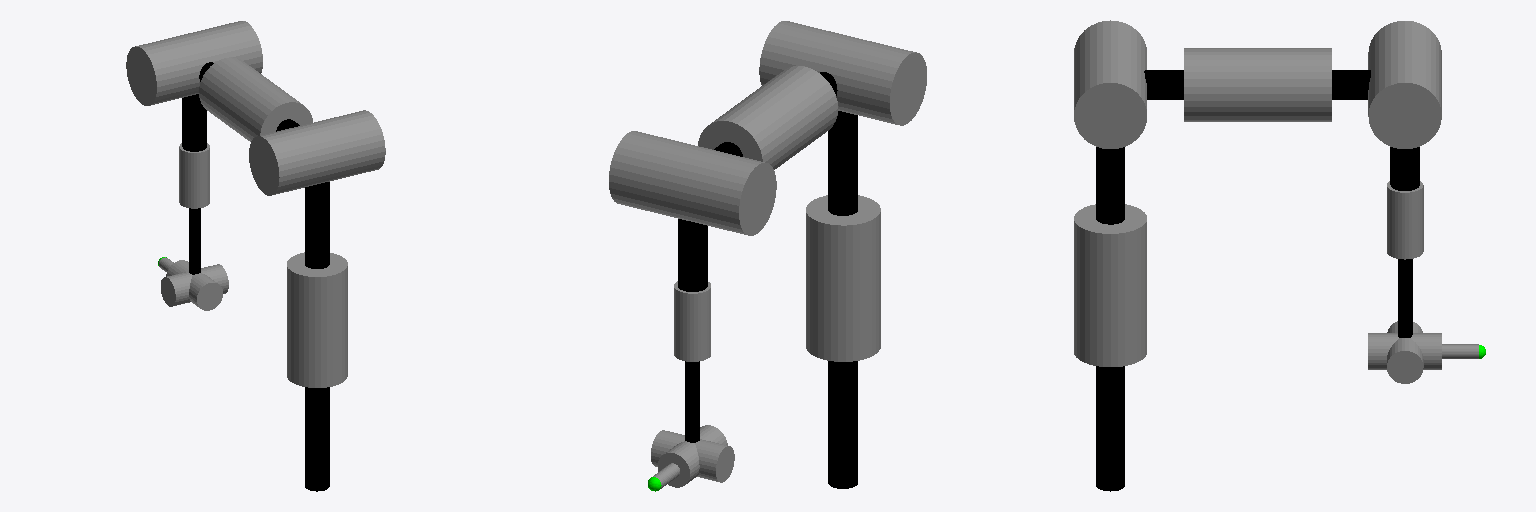
URDF robot description (SevenDOF):
<?xml version="1.0"?>

<robot name="SevenDOF">
  
  <!-- *************************************************** -->
  <!-- ******************** Kinematics ******************* -->
  <!-- *************************************************** -->

  <link name="world"/>

  <joint name="theta1" type="continuous">
    <parent link="world"/>
    <child  link="link1"/>
    <origin xyz="0 0 0.6" rpy="0 0 0"/>
    <axis   xyz="0 0 1"/>
    <dynamics damping="5.0"/>
  </joint>

  <link name="link1"/>

  <joint name="theta2" type="continuous">
    <parent link="link1"/>
    <child  link="link2"/>
    <origin xyz="0 0 0" rpy="0 0 0"/>
    <axis   xyz="1 0 0"/>
    <dynamics damping="5.0"/>
  </joint>

  <link name="link2"/>

  <joint name="attach-shoulder" type="fixed">
    <parent link="link2"/>
    <child  link="shoulder"/>
  </joint>

  <link name="shoulder"/>

  <joint name="theta3" type="continuous">
    <parent link="link2"/>
    <child  link="link3"/>
    <origin xyz="0 0.4 0" rpy="0 0 0"/>
    <axis   xyz="0 1 0 "/>
    <dynamics damping="0.5"/>
  </joint>

  <link name="link3"/>

  <joint name="theta4" type="continuous">
    <parent link="link3"/>
    <child  link="link4"/>
    <origin xyz="0 0 0" rpy="-1.5708 0 0"/>
    <axis   xyz="1 0 0 "/>
    <dynamics damping="1.0"/>
  </joint>

  <link name="link4"/>

  <joint name="attach-elbow" type="fixed">
    <parent link="link4"/>
    <child  link="elbow"/>
  </joint>

  <link name="elbow"/>

  <joint name="theta5" type="continuous">
    <parent link="link4"/>
    <child  link="link5"/>
    <origin xyz="0 0.4 0" rpy="0 0 0"/>
    <axis   xyz="0 1 0"/>
    <dynamics damping="0.2"/>
  </joint>

  <link name="link5"/>

  <joint name="theta6" type="continuous">
    <parent link="link5"/>
    <child  link="link6"/>
    <origin xyz="0 0 0" rpy="0 0 0"/>
    <axis   xyz="0 0 1"/>
    <dynamics damping="0.2"/>
  </joint>

  <link name="link6"/>

  <joint name="theta7" type="continuous">
    <parent link="link6"/>
    <child  link="link7"/>
    <origin xyz="0 0 0" rpy="0 0 0"/>
    <axis   xyz="1 0 0"/>
    <dynamics damping="0.2"/>
  </joint>

  <link name="link7"/>

  <joint name="final" type="fixed">
    <parent link="link7"/>
    <child  link="tip"/>
    <origin xyz="0 0 0.1" rpy="1.5708 0 0"/>
  </joint>

  <link name="tip"/>


  <!-- *************************************************** -->
  <!-- ******************* RVIZ Colors ******************* -->
  <!-- *************************************************** -->

  <material name="white">    <color rgba="1.00 1.00 1.00 1"/>  </material>
  <material name="gray">     <color rgba="0.60 0.60 0.60 1"/>  </material>
  <material name="table">    <color rgba="0.85 0.77 0.77 1"/>  </material>
  <material name="black">    <color rgba="0.00 0.00 0.00 1"/>  </material>

  <material name="red">      <color rgba="1.00 0.00 0.00 1"/>  </material>
  <material name="green">    <color rgba="0.00 1.00 0.00 1"/>  </material>
  <material name="blue">     <color rgba="0.00 0.00 1.00 1"/>  </material>

  <material name="cyan">     <color rgba="0.00 1.00 1.00 1"/>  </material>
  <material name="magenta">  <color rgba="1.00 0.00 1.00 1"/>  </material>
  <material name="yellow">   <color rgba="1.00 1.00 0.00 1"/>  </material>

  <material name="orange">   <color rgba="1.00 0.65 0.00 1"/>  </material>


  <!-- *************************************************** -->
  <!-- ****** Building Blocks (Visual AND Inertial) ****** -->
  <!-- *************************************************** -->

  <!-- *** World-Fixed: Mount 1, Motor 1 *** -->

  <joint name="attach-mount1" type="fixed">
    <parent link="world"/>
    <child  link="mount1"/>
  </joint>
  <link name="mount1">
    <visual>
      <origin xyz="0 0 0.1" rpy="0 0 0"/>
      <geometry>
	<cylinder length="0.2" radius="0.02"/>
      </geometry>
      <material name="black"/>
    </visual>
    <collision>
      <origin xyz="0 0 0.1" rpy="0 0 0"/>
      <geometry>
	<cylinder length="0.2" radius="0.02"/>
      </geometry>
    </collision>
    <inertial>
      <origin xyz="0 0 0.1" rpy="0 0 0"/>
      <mass value="0.2"/>
      <inertia
        ixx="0.000687" ixy="0.0" ixz="0.0"
        iyy="0.000687" iyz="0.0"
        izz="0.000040"/>
    </inertial>
  </link>

  <joint name="attach-motor1" type="fixed">
    <parent link="world"/>
    <child  link="motor1"/>
  </joint>
  <link name="motor1">
    <visual>
      <origin xyz="0 0 0.3" rpy="0 0 0"/>
      <geometry>
	<cylinder length="0.2" radius="0.05"/>
      </geometry>
      <material name="gray"/>
    </visual>
    <collision>
      <origin xyz="0 0 0.3" rpy="0 0 0"/>
      <geometry>
	<cylinder length="0.2" radius="0.05"/>
      </geometry>
    </collision>
    <inertial>
      <origin xyz="0 0 0.3" rpy="0 0 0"/>
      <mass value="2.0"/>
      <inertia
        ixx="0.007917" ixy="0.0" ixz="0.0"
        iyy="0.007917" iyz="0.0"
        izz="0.002500"/>
    </inertial>
  </link>

  <!-- *** Motor 1 Output: Mount 2, Motor 2 *** -->

  <joint name="attach-mount2" type="fixed">
    <parent link="link1"/>
    <child  link="mount2"/>
  </joint>
  <link name="mount2">
    <visual>
      <origin xyz="0 0 -0.1" rpy="0 0 0"/>
      <geometry>
	<cylinder length="0.2" radius="0.02"/>
      </geometry>
      <material name="black"/>
    </visual>
    <collision>
      <origin xyz="0 0 -0.1" rpy="0 0 0"/>
      <geometry>
	<cylinder length="0.2" radius="0.02"/>
      </geometry>
    </collision>
    <inertial>
      <origin xyz="0 0 -0.1" rpy="0 0 0"/>
      <mass value="0.2"/>
      <inertia
        ixx="0.000687" ixy="0.0" ixz="0.0"
        iyy="0.000687" iyz="0.0"
        izz="1.000040"/>
    </inertial>
  </link>

  <joint name="attach-motor2" type="fixed">
    <parent link="link1"/>
    <child  link="motor2"/>
  </joint>
  <link name="motor2">
    <visual>
      <origin xyz="0 0 0" rpy="0 1.5708 0"/>
      <geometry>
	<cylinder length="0.2" radius="0.05"/>
      </geometry>
      <material name="gray"/>
    </visual>
    <collision>
      <origin xyz="0 0 0" rpy="0 1.5708 0"/>
      <geometry>
	<cylinder length="0.2" radius="0.05"/>
      </geometry>
    </collision>
    <inertial>
      <origin xyz="0 0 0" rpy="0 1.5708 0"/>
      <mass value="2.0"/>
      <inertia
        ixx="0.007917" ixy="0.0" ixz="0.0"
        iyy="0.007917" iyz="0.0"
        izz="0.002500"/>
    </inertial>
  </link>

  <!-- *** Motor 2 Output: Mount 3, Motor 3 *** -->

  <joint name="attach-mount3" type="fixed">
    <parent link="link2"/>
    <child  link="mount3"/>
  </joint>
  <link name="mount3">
    <visual>
      <origin xyz="0 0.1 0" rpy="1.5708 0 0"/>
      <geometry>
	<cylinder length="0.2" radius="0.02"/>
      </geometry>
      <material name="black"/>
    </visual>
    <collision>
      <origin xyz="0 0.1 0" rpy="1.5708 0 0"/>
      <geometry>
	<cylinder length="0.2" radius="0.02"/>
      </geometry>
    </collision>
    <inertial>
      <origin xyz="0 0.1 0" rpy="1.5708 0 0"/>
      <mass value="0.2"/>
      <inertia
        ixx="1.000687" ixy="0.0" ixz="0.0"
        iyy="0.000687" iyz="0.0"
        izz="0.000040"/>
    </inertial>
  </link>

  <joint name="attach-motor3" type="fixed">
    <parent link="link2"/>
    <child  link="motor3"/>
  </joint>
  <link name="motor3">
    <visual>
      <origin xyz="0 0.2 0" rpy="1.5708 0 0"/>
      <geometry>
	<cylinder length="0.2" radius="0.05"/>
      </geometry>
      <material name="gray"/>
    </visual>
    <collision>
      <origin xyz="0 0.2 0" rpy="1.5708 0 0"/>
      <geometry>
	<cylinder length="0.2" radius="0.05"/>
      </geometry>
    </collision>
    <inertial>
      <origin xyz="0 0.2 0" rpy="1.5708 0 0"/>
      <mass value="2.0"/>
      <inertia
        ixx="0.007917" ixy="0.0" ixz="0.0"
        iyy="0.007917" iyz="0.0"
        izz="0.002500"/>
    </inertial>
  </link>

  <!-- *** Motor 3 Output: Mount 4, Motor 4 *** -->

  <joint name="attach-mount4" type="fixed">
    <parent link="link3"/>
    <child  link="mount4"/>
  </joint>
  <link name="mount4">
    <visual>
      <origin xyz="0 -0.1 0" rpy="1.5708 0 0"/>
      <geometry>
	<cylinder length="0.2" radius="0.02"/>
      </geometry>
      <material name="black"/>
    </visual>
    <collision>
      <origin xyz="0 -0.1 0" rpy="1.5708 0 0"/>
      <geometry>
	<cylinder length="0.2" radius="0.02"/>
      </geometry>
    </collision>
    <inertial>
      <origin xyz="0 -0.1 0" rpy="1.5708 0 0"/>
      <mass value="0.2"/>
      <inertia
        ixx="0.000687" ixy="0.0" ixz="0.0"
        iyy="0.000687" iyz="0.0"
        izz="1.000040"/>
    </inertial>
  </link>

  <joint name="attach-motor4" type="fixed">
    <parent link="link3"/>
    <child  link="motor4"/>
  </joint>
  <link name="motor4">
    <visual>
      <origin xyz="0 0 0" rpy="0 1.5708 0"/>
      <geometry>
	<cylinder length="0.2" radius="0.05"/>
      </geometry>
      <material name="gray"/>
    </visual>
    <collision>
      <origin xyz="0 0 0" rpy="0 1.5708 0"/>
      <geometry>
	<cylinder length="0.2" radius="0.05"/>
      </geometry>
    </collision>
    <inertial>
      <origin xyz="0 0 0" rpy="0 1.5708 0"/>
      <mass value="2.0"/>
      <inertia
        ixx="0.007917" ixy="0.0" ixz="0.0"
        iyy="0.007917" iyz="0.0"
        izz="0.002500"/>
    </inertial>
  </link>

  <!-- *** Motor 4 Output: Mount 5, Motor 5 *** -->

  <joint name="attach-mount5" type="fixed">
    <parent link="link4"/>
    <child  link="mount5"/>
  </joint>
  <link name="mount5">
    <visual>
      <origin xyz="0 0.1 0" rpy="1.5708 0 0"/>
      <geometry>
	<cylinder length="0.2" radius="0.02"/>
      </geometry>
      <material name="black"/>
    </visual>
    <collision>
      <origin xyz="0 0.1 0" rpy="1.5708 0 0"/>
      <geometry>
	<cylinder length="0.2" radius="0.02"/>
      </geometry>
    </collision>
    <inertial>
      <origin xyz="0 0.1 0" rpy="1.5708 0 0"/>
      <mass value="0.2"/>
      <inertia
        ixx="0.500687" ixy="0.0" ixz="0.0"
        iyy="0.000687" iyz="0.0"
        izz="0.000040"/>
    </inertial>
  </link>

  <joint name="attach-motor5" type="fixed">
    <parent link="link4"/>
    <child  link="motor5"/>
  </joint>
  <link name="motor5">
    <visual>
      <origin xyz="0 0.2 0" rpy="1.5708 0 0"/>
      <geometry>
	<cylinder length="0.1" radius="0.025"/>
      </geometry>
      <material name="gray"/>
    </visual>
    <collision>
      <origin xyz="0 0.2 0" rpy="1.5708 0 0"/>
      <geometry>
	<cylinder length="0.1" radius="0.025"/>
      </geometry>
    </collision>
    <inertial>
      <origin xyz="0 0.2 0" rpy="1.5708 0 0"/>
      <mass value="1.0"/>
      <inertia
        ixx="0.000990" ixy="0.0" ixz="0.0"
        iyy="0.000990" iyz="0.0"
        izz="0.000313"/>
    </inertial>
  </link>

  <!-- *** Motor 5 Output: Mount 6, Motor 6 *** -->

  <joint name="attach-mount6" type="fixed">
    <parent link="link5"/>
    <child  link="mount6"/>
  </joint>
  <link name="mount6">
    <visual>
      <origin xyz="0 -0.1 0" rpy="1.5708 0 0"/>
      <geometry>
	<cylinder length="0.2" radius="0.01"/>
      </geometry>
      <material name="black"/>
    </visual>
    <collision>
      <origin xyz="0 -0.1 0" rpy="1.5708 0 0"/>
      <geometry>
	<cylinder length="0.2" radius="0.01"/>
      </geometry>
    </collision>
    <inertial>
      <origin xyz="0 -0.1 0" rpy="1.5708 0 0"/>
      <mass value="0.1"/>
      <inertia
        ixx="0.000336" ixy="0.0" ixz="0.0"
        iyy="0.000336" iyz="0.0"
        izz="0.500005"/>
    </inertial>
  </link>

  <joint name="attach-motor6" type="fixed">
    <parent link="link5"/>
    <child  link="motor6"/>
  </joint>
  <link name="motor6">
    <visual>
      <origin xyz="0 0 0" rpy="0 0 0"/>
      <geometry>
	<cylinder length="0.1" radius="0.025"/>
      </geometry>
      <material name="gray"/>
    </visual>
    <collision>
      <origin xyz="0 0 0" rpy="0 0 0"/>
      <geometry>
	<cylinder length="0.1" radius="0.025"/>
      </geometry>
    </collision>
    <inertial>
      <origin xyz="0 0 0" rpy="0 0 0"/>
      <mass value="1.0"/>
      <inertia
        ixx="0.000990" ixy="0.0" ixz="0.0"
        iyy="0.000990" iyz="0.0"
        izz="0.000313"/>
    </inertial>
  </link>

  <!-- *** Motor 6 Output: Motor 7 *** -->

  <joint name="attach-motor7" type="fixed">
    <parent link="link6"/>
    <child  link="motor7"/>
  </joint>
  <link name="motor7">
    <visual>
      <origin xyz="0 0 0" rpy="0 1.5708 0"/>
      <geometry>
	<cylinder length="0.1" radius="0.025"/>
      </geometry>
      <material name="gray"/>
    </visual>
    <collision>
      <origin xyz="0 0 0" rpy="0 1.5708 0"/>
      <geometry>
	<cylinder length="0.1" radius="0.025"/>
      </geometry>
    </collision>
    <inertial>
      <origin xyz="0 0 0" rpy="0 1.5708 0"/>
      <mass value="1.0"/>
      <inertia
        ixx="0.500990" ixy="0.0" ixz="0.0"
        iyy="0.000990" iyz="0.0"
        izz="0.000313"/>
    </inertial>
  </link>

  <!-- *** Drawing Sphere *** -->

  <joint name="attach-sphere" type="fixed">
    <parent link="tip"/>
    <child  link="sphere"/>
  </joint>
  <link name="sphere">
    <visual>
      <origin xyz="0 0 0" rpy="0 0 0"/>
      <geometry>
	      <sphere radius="0.01"/>
      </geometry>
      <material name="green"/>
    </visual>
    <collision>
      <origin xyz="0 0 0" rpy="0 0 0"/>
      <geometry>
	      <sphere radius="0.01"/>
      </geometry>
      <material name="green"/>
    </collision>
    <inertial>
      <origin xyz="0 0 0" rpy="0 0 0"/>
      <mass value="1.0"/>
      <inertia
        ixx="0.01" ixy="0.0" ixz="0.0"
        iyy="0.01" iyz="0.0"
        izz="0.01"/>
    </inertial>
  </link>


  <joint name="attach-cylinder" type="fixed">
    <parent link="tip"/>
    <child  link="cylinder"/>
  </joint>
  <link name="cylinder">
    <visual>
      <origin xyz="0 -0.05 0" rpy="1.5708 0 0"/>
      <geometry>
	      <cylinder length="0.1" radius="0.01"/>
      </geometry>
      <material name="gray"/>
    </visual>
    <collision>
      <origin xyz="0 -0.05 0" rpy="1.5708 0 0"/>
      <geometry>
	      <cylinder length="0.1" radius="0.01"/>
      </geometry>
    </collision>
    <inertial>
      <origin xyz="0 0 0" rpy="0 1.5708 0"/>
      <mass value="1.0"/>
      <inertia
        ixx="0.500990" ixy="0.0" ixz="0.0"
        iyy="0.000990" iyz="0.0"
        izz="0.000313"/>
    </inertial>
  </link>


  <!-- *************************************************** -->
  <!-- ******************* Gazebo Colors ***************** -->
  <!-- *************************************************** -->

  <gazebo reference="motor1"> <material>Gazebo/Gray</material>  </gazebo>
  <gazebo reference="motor2"> <material>Gazebo/Gray</material>  </gazebo>
  <gazebo reference="motor3"> <material>Gazebo/Gray</material>  </gazebo>
  <gazebo reference="motor4"> <material>Gazebo/Gray</material>  </gazebo>
  <gazebo reference="motor5"> <material>Gazebo/Gray</material>  </gazebo>
  <gazebo reference="motor6"> <material>Gazebo/Gray</material>  </gazebo>
  <gazebo reference="motor7"> <material>Gazebo/Gray</material>  </gazebo>

  <gazebo reference="mount1">   <material>Gazebo/Black</material> </gazebo>
  <gazebo reference="mount2">   <material>Gazebo/Black</material> </gazebo>
  <gazebo reference="mount3">   <material>Gazebo/Black</material> </gazebo>
  <gazebo reference="mount4">   <material>Gazebo/Black</material> </gazebo>
  <gazebo reference="mount5">   <material>Gazebo/Black</material> </gazebo>
  <gazebo reference="mount6">   <material>Gazebo/Black</material> </gazebo>

  <gazebo reference="sphere">  <material>Gazebo/Green</material>  </gazebo>

  
  <!-- *************************************************** -->
  <!-- ************** Gazebo Transmissions *************** -->
  <!-- *************************************************** -->

  <transmission name="trans1">
    <type>transmission_interface/SimpleTransmission</type>
    <joint name="theta1">
      <hardwareInterface>hardware_interface/EffortJointInterface</hardwareInterface>
    </joint>
    <actuator name="motor1">
      <mechanicalReduction>1</mechanicalReduction>
      <hardwareInterface>hardware_interface/EffortJointInterface</hardwareInterface>
    </actuator>
  </transmission>
  
  <transmission name="trans2">
    <type>transmission_interface/SimpleTransmission</type>
    <joint name="theta2">
      <hardwareInterface>hardware_interface/EffortJointInterface</hardwareInterface>
    </joint>
    <actuator name="motor2">
      <mechanicalReduction>1</mechanicalReduction>
      <hardwareInterface>hardware_interface/EffortJointInterface</hardwareInterface>
    </actuator>
  </transmission>
  
  <transmission name="trans3">
    <type>transmission_interface/SimpleTransmission</type>
    <joint name="theta3">
      <hardwareInterface>hardware_interface/EffortJointInterface</hardwareInterface>
    </joint>
    <actuator name="motor3">
      <mechanicalReduction>1</mechanicalReduction>
      <hardwareInterface>hardware_interface/EffortJointInterface</hardwareInterface>
    </actuator>
  </transmission>
  
  <transmission name="trans4">
    <type>transmission_interface/SimpleTransmission</type>
    <joint name="theta4">
      <hardwareInterface>hardware_interface/EffortJointInterface</hardwareInterface>
    </joint>
    <actuator name="motor4">
      <mechanicalReduction>1</mechanicalReduction>
      <hardwareInterface>hardware_interface/EffortJointInterface</hardwareInterface>
    </actuator>
  </transmission>
  
  <transmission name="trans5">
    <type>transmission_interface/SimpleTransmission</type>
    <joint name="theta5">
      <hardwareInterface>hardware_interface/EffortJointInterface</hardwareInterface>
    </joint>
    <actuator name="motor5">
      <mechanicalReduction>1</mechanicalReduction>
      <hardwareInterface>hardware_interface/EffortJointInterface</hardwareInterface>
    </actuator>
  </transmission>
  
  <transmission name="trans6">
    <type>transmission_interface/SimpleTransmission</type>
    <joint name="theta6">
      <hardwareInterface>hardware_interface/EffortJointInterface</hardwareInterface>
    </joint>
    <actuator name="motor6">
      <mechanicalReduction>1</mechanicalReduction>
      <hardwareInterface>hardware_interface/EffortJointInterface</hardwareInterface>
    </actuator>
  </transmission>
  
  <transmission name="trans7">
    <type>transmission_interface/SimpleTransmission</type>
    <joint name="theta7">
      <hardwareInterface>hardware_interface/EffortJointInterface</hardwareInterface>
    </joint>
    <actuator name="motor7">
      <mechanicalReduction>1</mechanicalReduction>
      <hardwareInterface>hardware_interface/EffortJointInterface</hardwareInterface>
    </actuator>
  </transmission>

  
  <!-- *************************************************** -->
  <!-- *************** Gazebo Controllers **************** -->
  <!-- *************************************************** -->

  <gazebo>
    <plugin name="gazebo_ros_control" filename="libgazebo_ros_control.so">
      <robotNamespace>/sevendof</robotNamespace>
      <robotSimType>gazebo_ros_control/DefaultRobotHWSim</robotSimType>
    </plugin>
  </gazebo>

</robot>

--- Facts derived from the render (not from the file) ---
Views: 3 orthographic renders of the robot side by side, from view 1: azimuth 30°, elevation 25°; view 2: azimuth 150°, elevation 25°; view 3: azimuth 270°, elevation 25°.
Model SevenDOF with 26 links and 25 joints (7 continuous, 18 fixed), rooted at world, posed every joint at zero.
Visible links, largest first — view 1: motor2, motor1, motor4, motor3, mount1, mount2, motor5, mount5, motor7, motor6, mount6; view 2: motor4, motor1, motor2, motor3, mount1, mount2, motor5, mount5, motor7, motor6, mount6; view 3: motor3, motor1, motor4, motor2, mount1, motor5, mount2, motor6, motor7, mount5, mount6, mount3 (+2 smaller).
Boxes of the visible links, x1,y1,x2,y2 form: motor2: (249,110,385,195); motor1: (287,252,347,387); motor4: (126,21,262,105); motor3: (199,57,312,141); mount1: (305,387,329,491); mount2: (305,182,329,268); motor5: (179,143,209,208); mount5: (182,94,206,151); motor7: (161,264,228,306); motor6: (166,260,222,310); mount6: (189,208,200,274); motor4: (609,131,776,235); motor1: (806,195,880,361); motor2: (759,21,926,125); motor3: (698,66,837,169); mount1: (828,361,857,488); mount2: (828,111,857,215); motor5: (674,281,710,361); mount5: (678,219,707,291); motor7: (651,430,734,482); motor6: (658,425,727,487); mount6: (685,361,699,442); motor3: (1184,48,1331,121); motor1: (1074,204,1146,366); motor4: (1368,21,1441,148); motor2: (1074,20,1146,148); mount1: (1096,366,1124,491); motor5: (1387,181,1423,259); mount2: (1096,147,1124,224); motor6: (1368,333,1441,369); motor7: (1387,321,1423,383); mount5: (1390,147,1419,190); mount6: (1398,259,1412,337); mount3: (1144,70,1183,99).
Bounding box of the posed robot: 0.2 × 0.56 × 0.65 m (x, y, z).
Geometry: primitives only (box / cylinder / sphere), no mesh files.